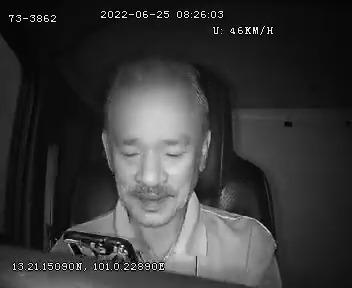PhoneUse: (54, 219, 148, 281)
